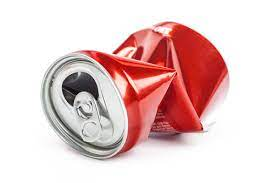can: (40, 20, 229, 160)
